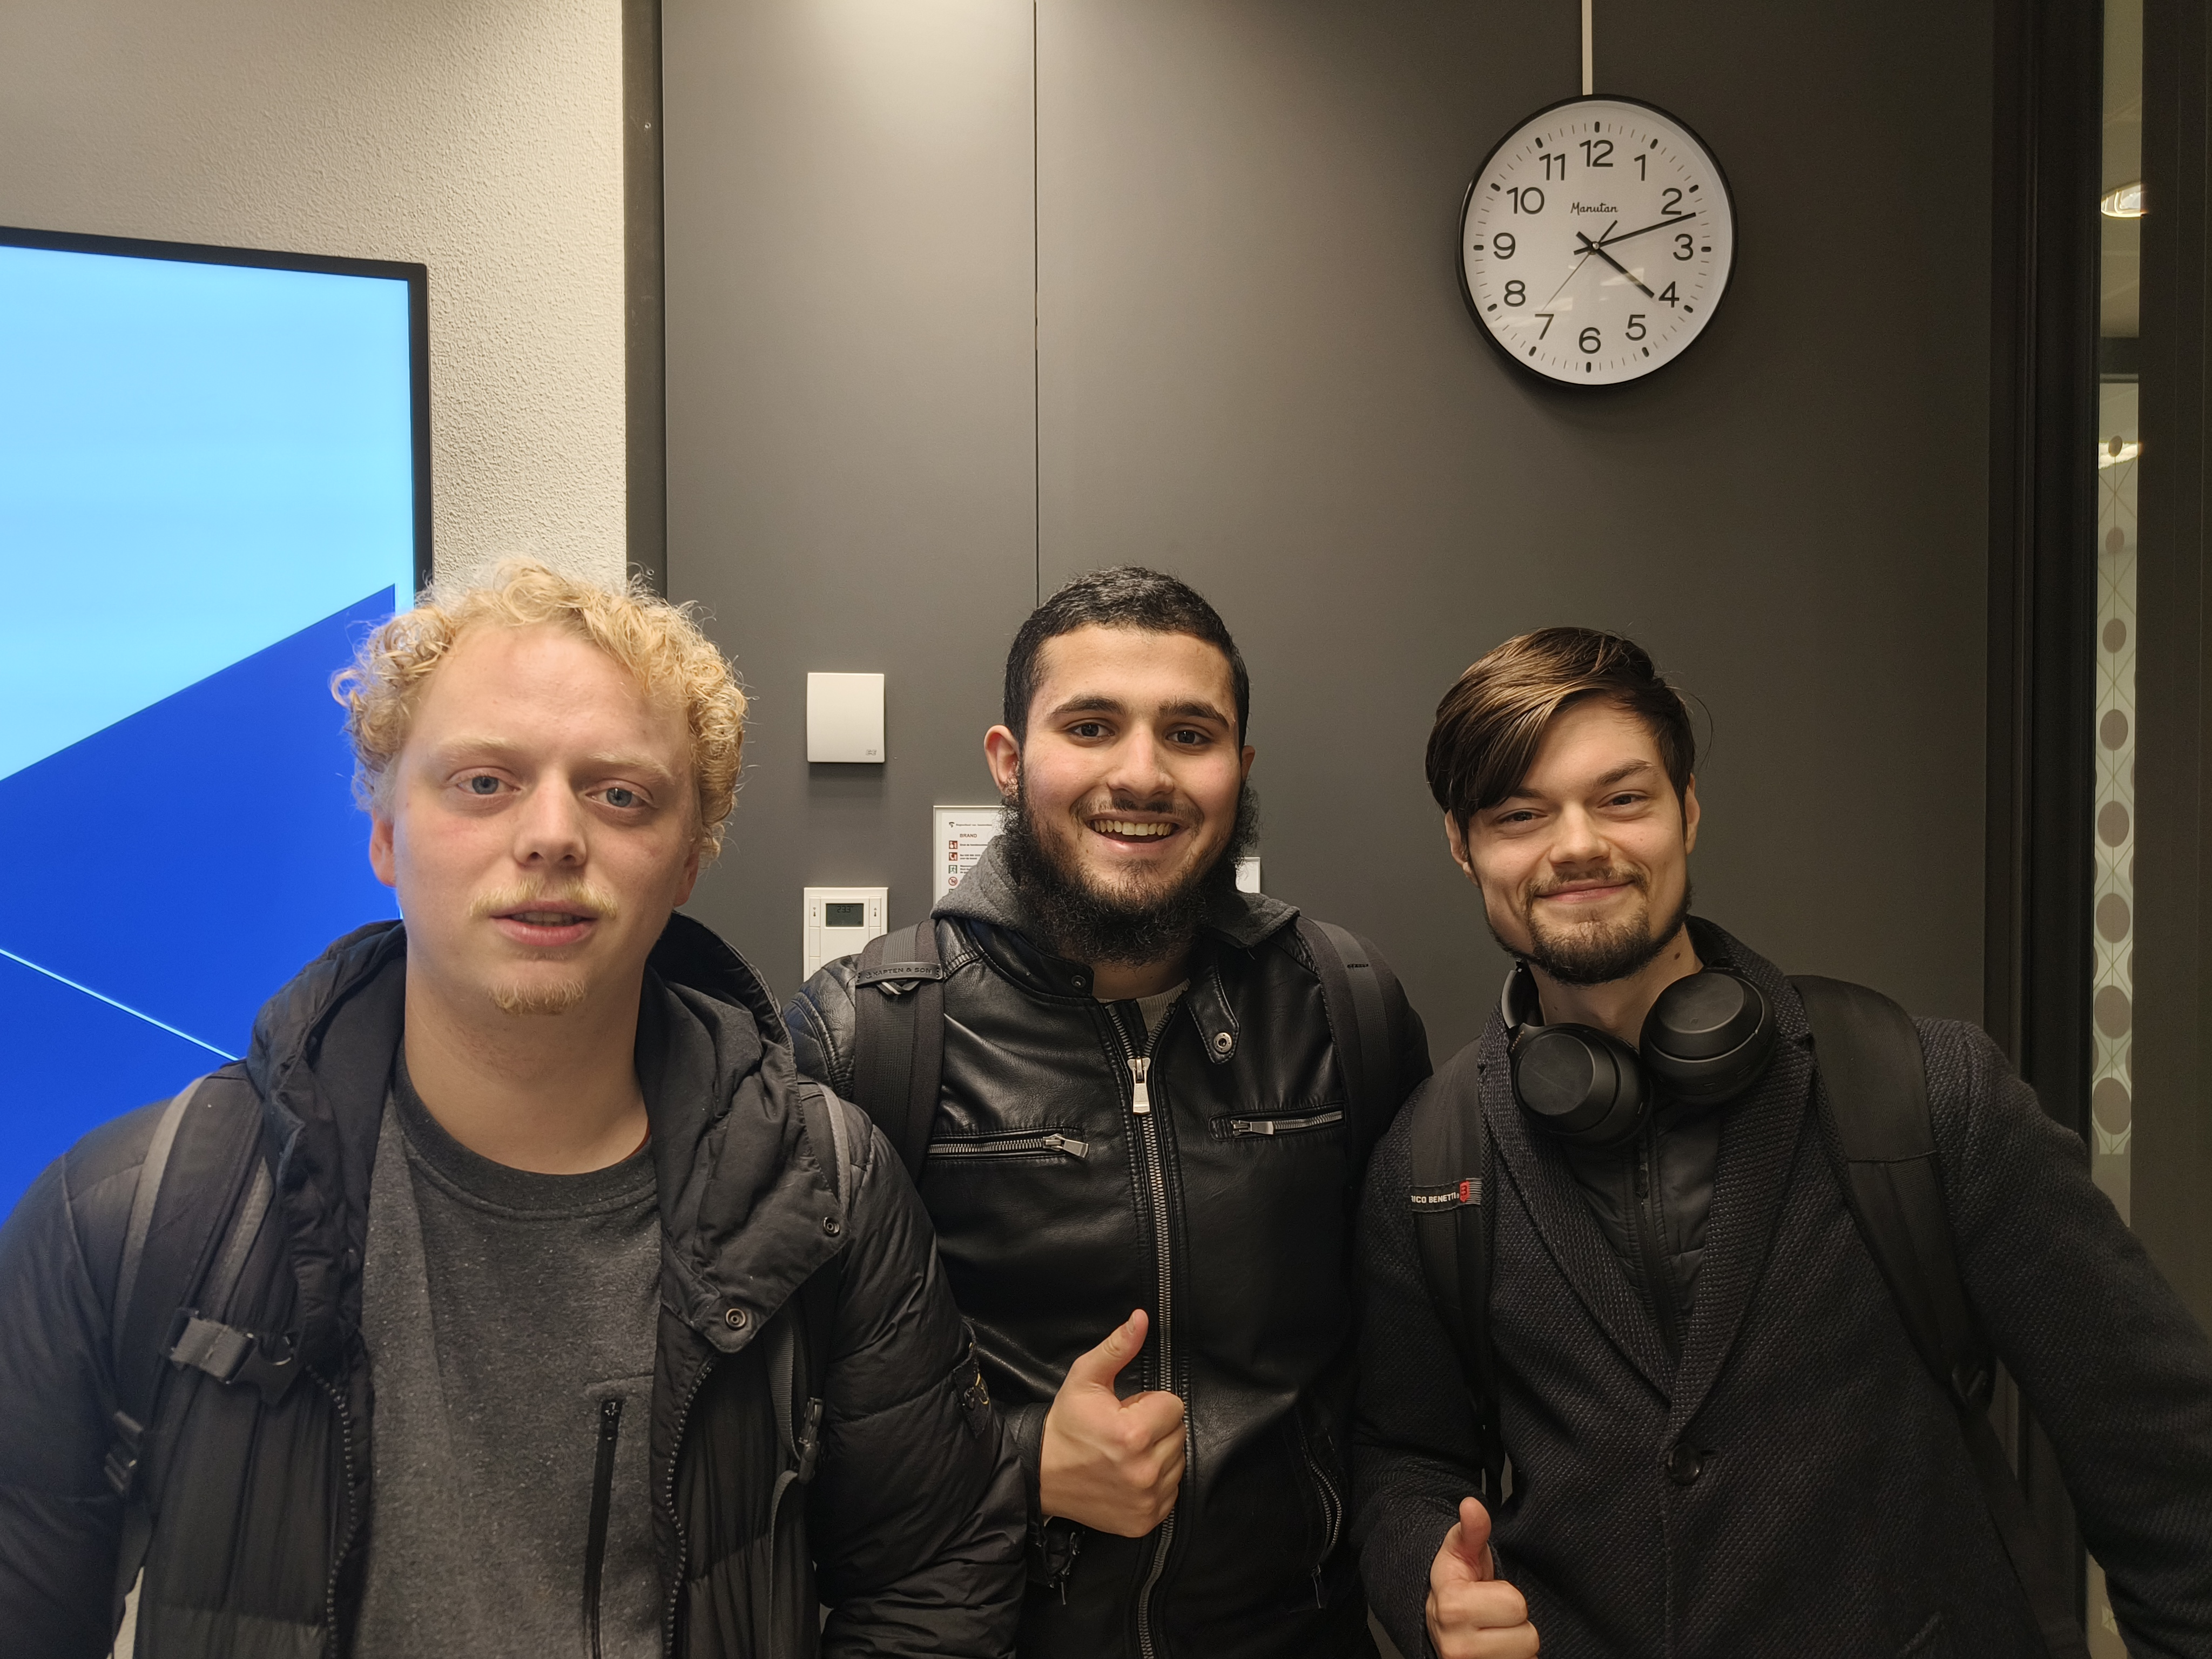face: (348, 563, 760, 1024), (1418, 591, 1721, 987), (974, 542, 1251, 943)
